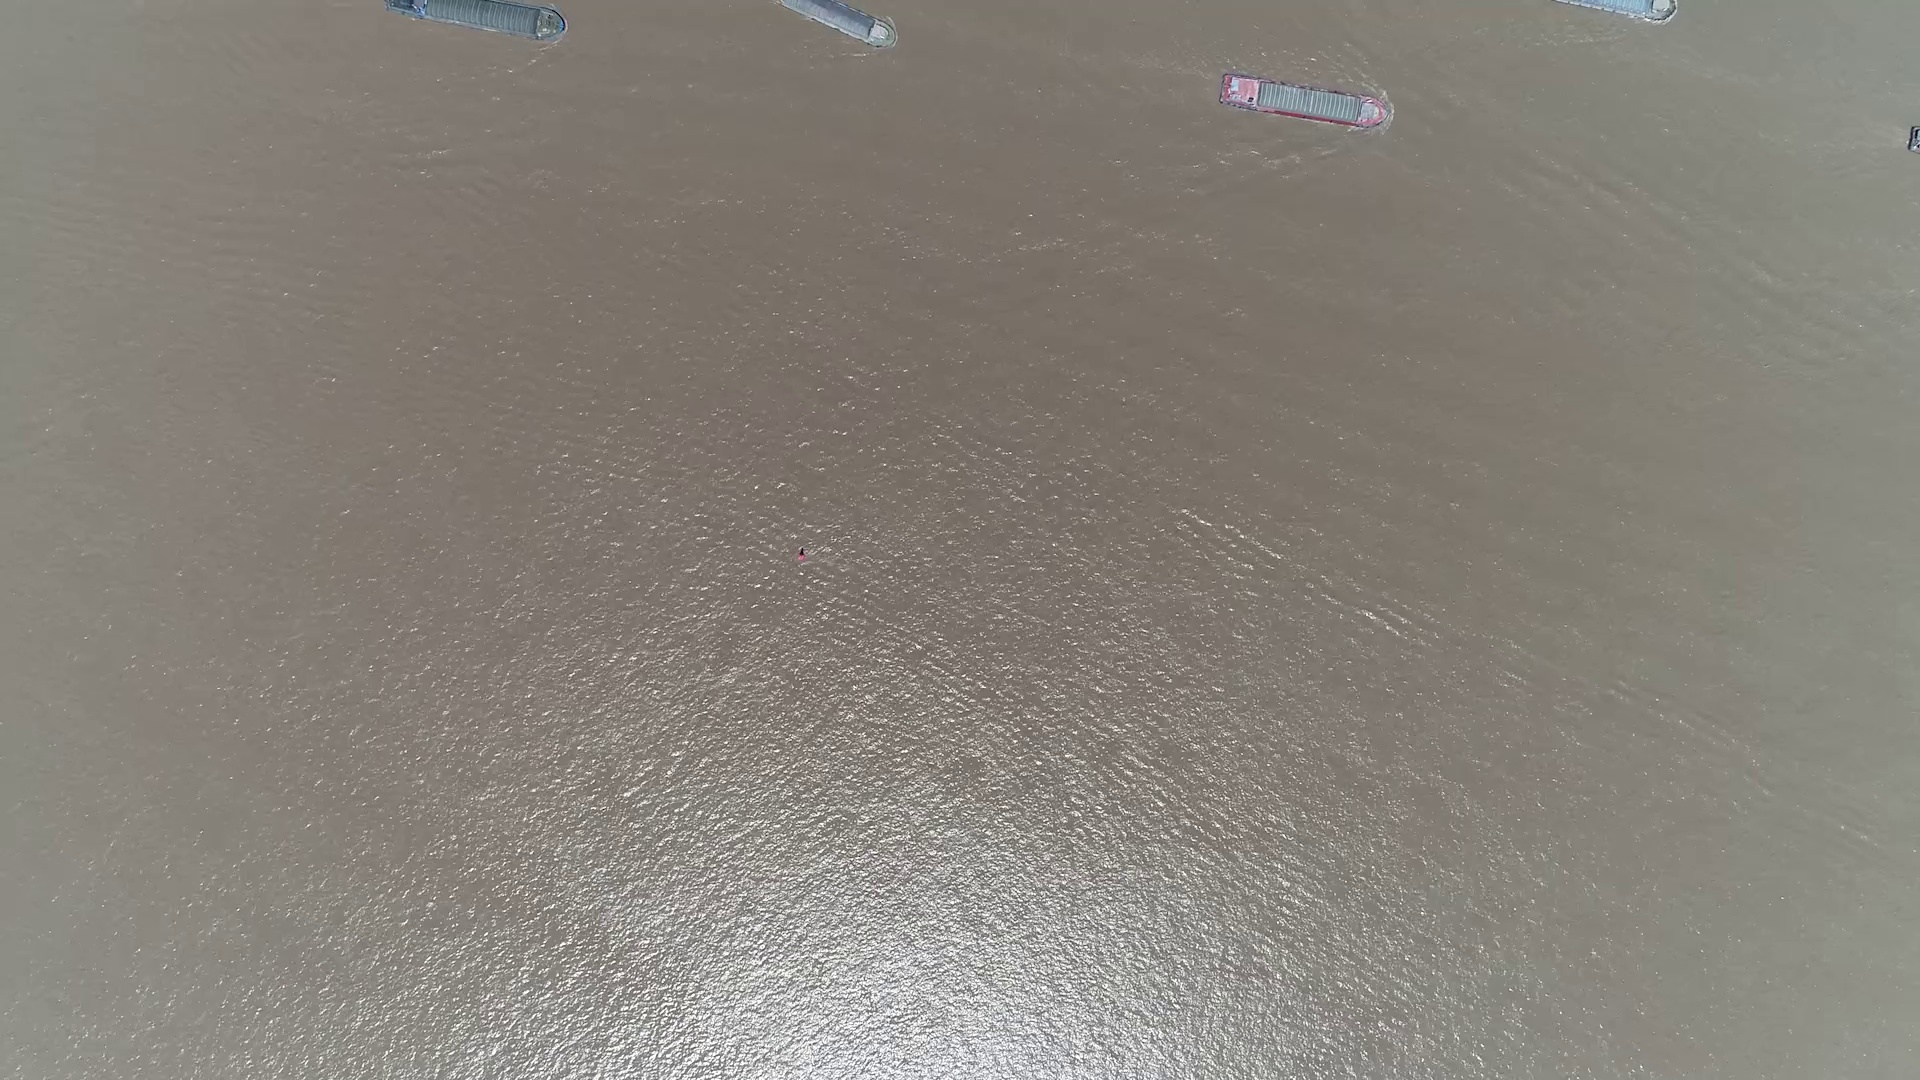ship: (1217, 75, 1391, 129), (385, 0, 567, 40), (781, 1, 901, 47), (1560, 0, 1677, 18)
